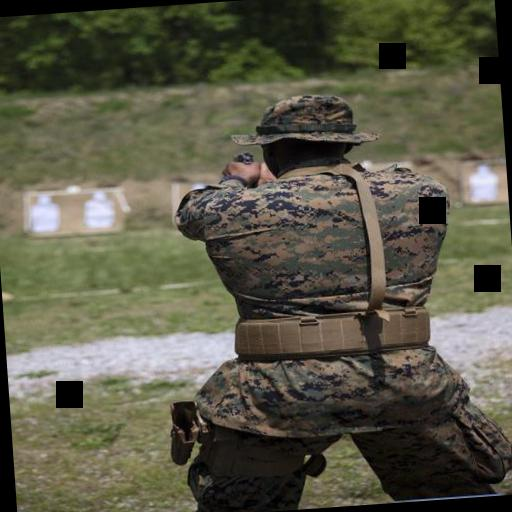Handgun: (216, 146, 260, 174)
